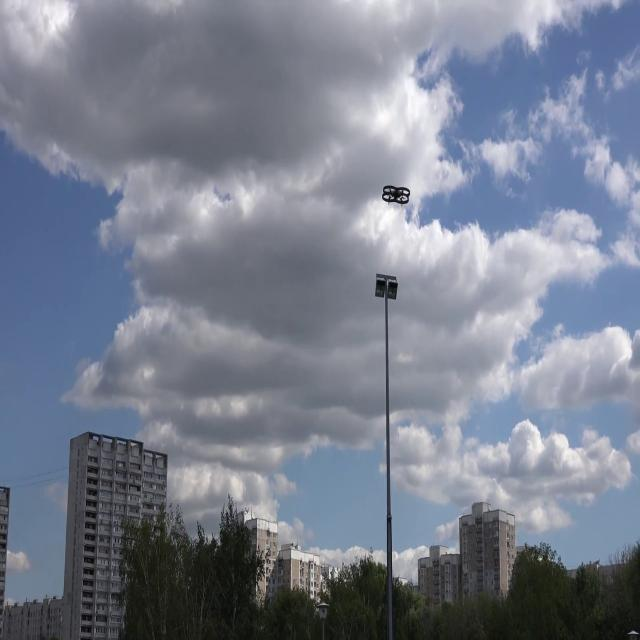Drons: (381, 184, 412, 206)
